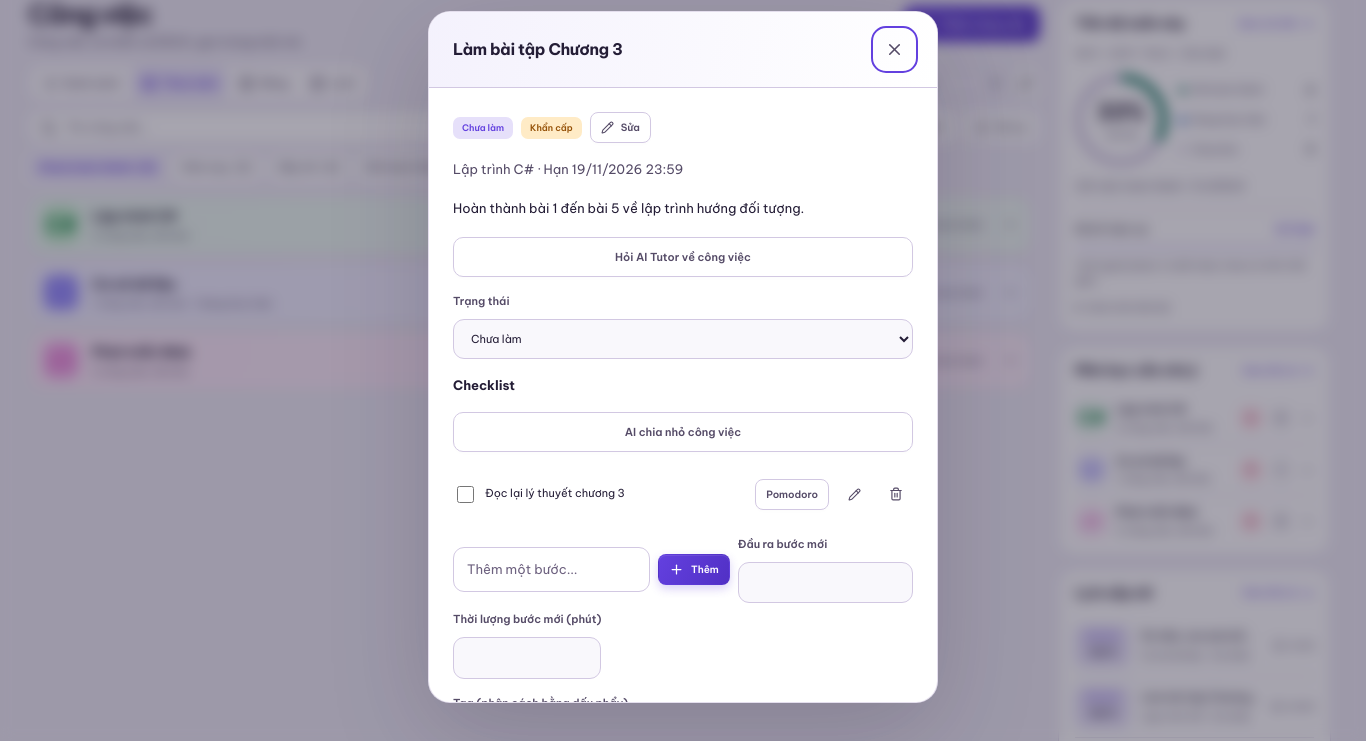
Test: Task details › opens a task from its search URL, edits checklist inline and clears the URL when closed
The width and height of the screenshot is (1366, 741).
Expected: the dialog is shown, [428, 11, 938, 703]
Click the button named "Sửa checklist".
click(854, 494)  # box [837, 477, 871, 511]
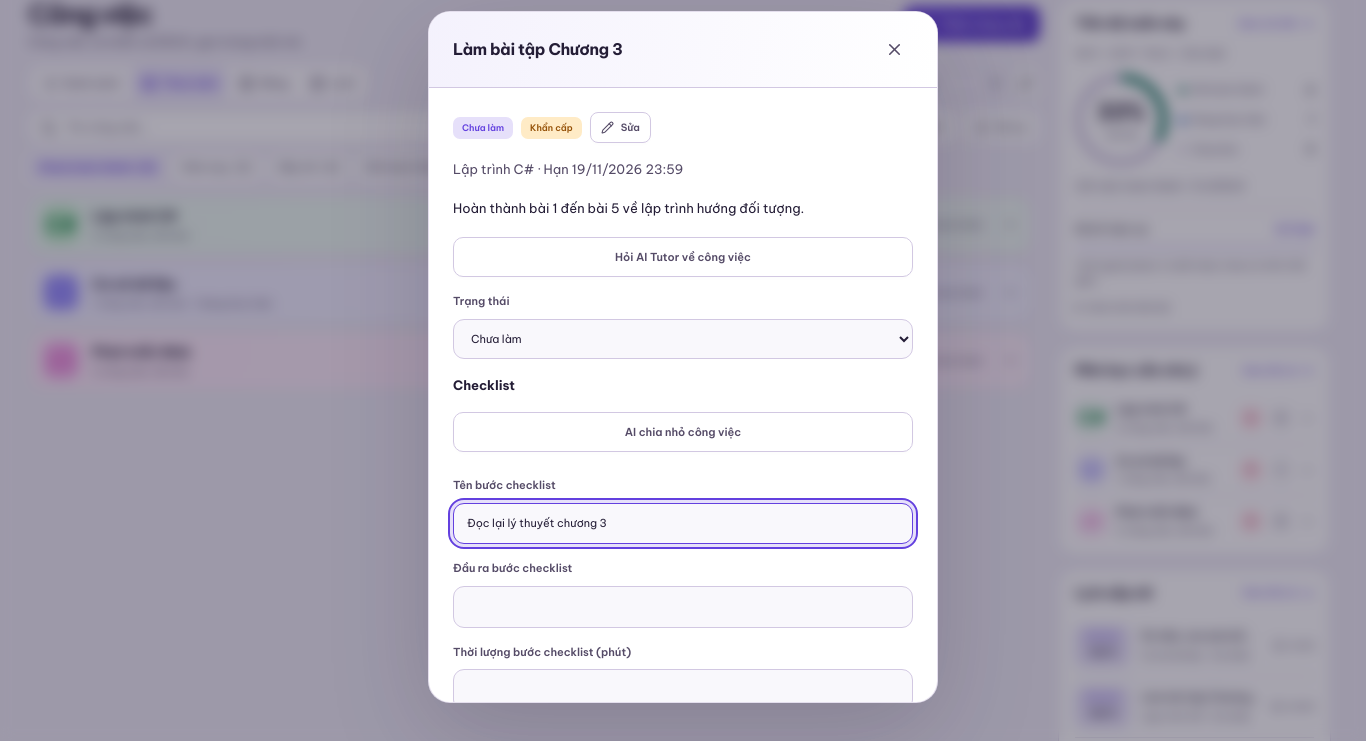
Replace the text in the field labelled "Tên bước checklist" with "Đọc chương tiếp theo" at point(683, 524), box [453, 503, 913, 544]
(page scrolled)
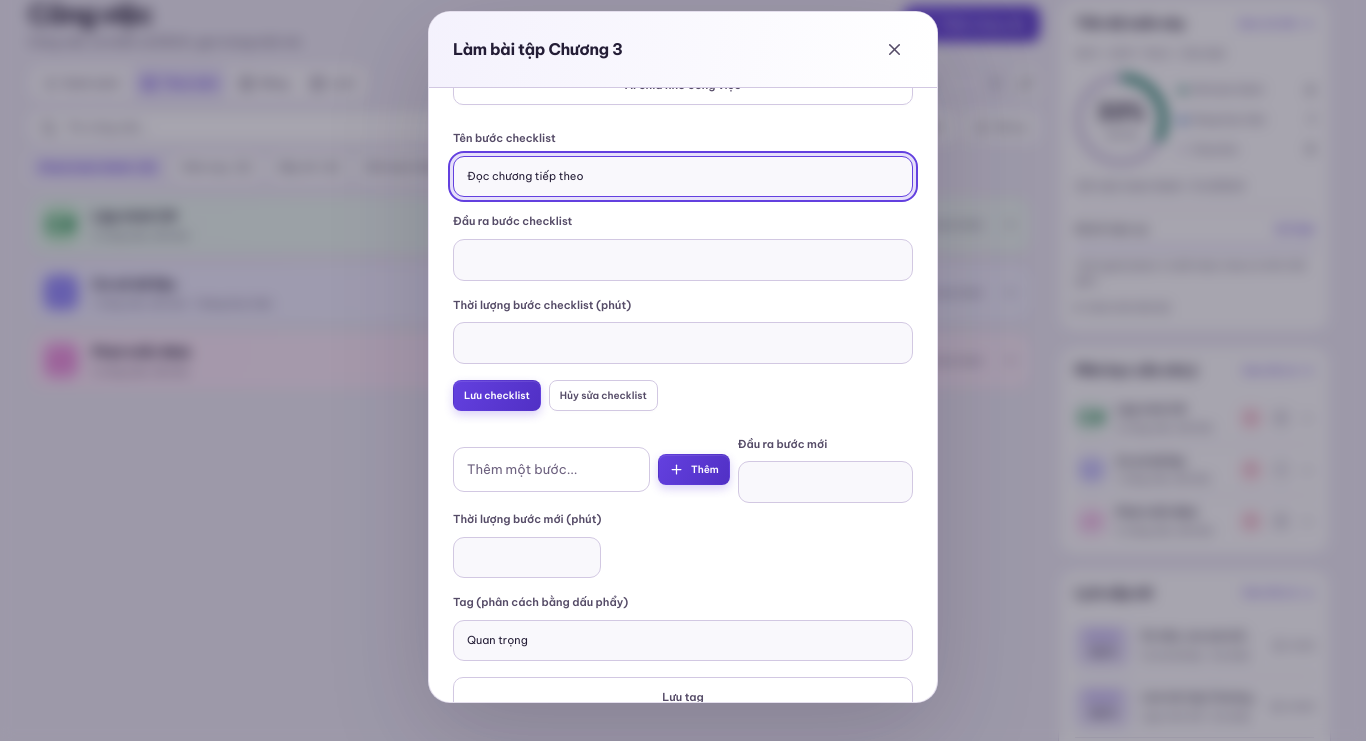
Click the button "Lưu checklist".
click(497, 395)  # box [453, 380, 541, 411]
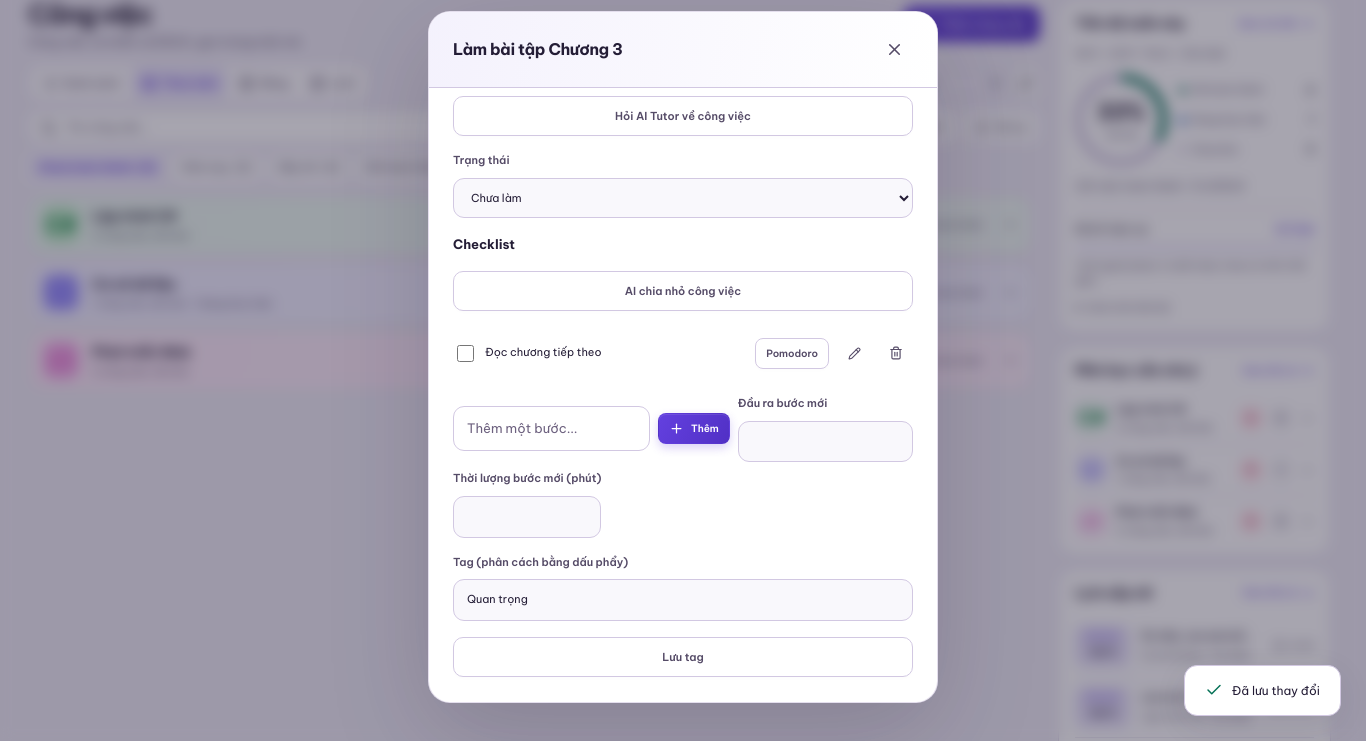
Expected: the text "Đọc chương tiếp theo" is shown, [485, 344, 602, 362]
Click the button named "Đóng hộp thoại".
click(894, 50)  # box [876, 31, 913, 68]
(page scrolled)
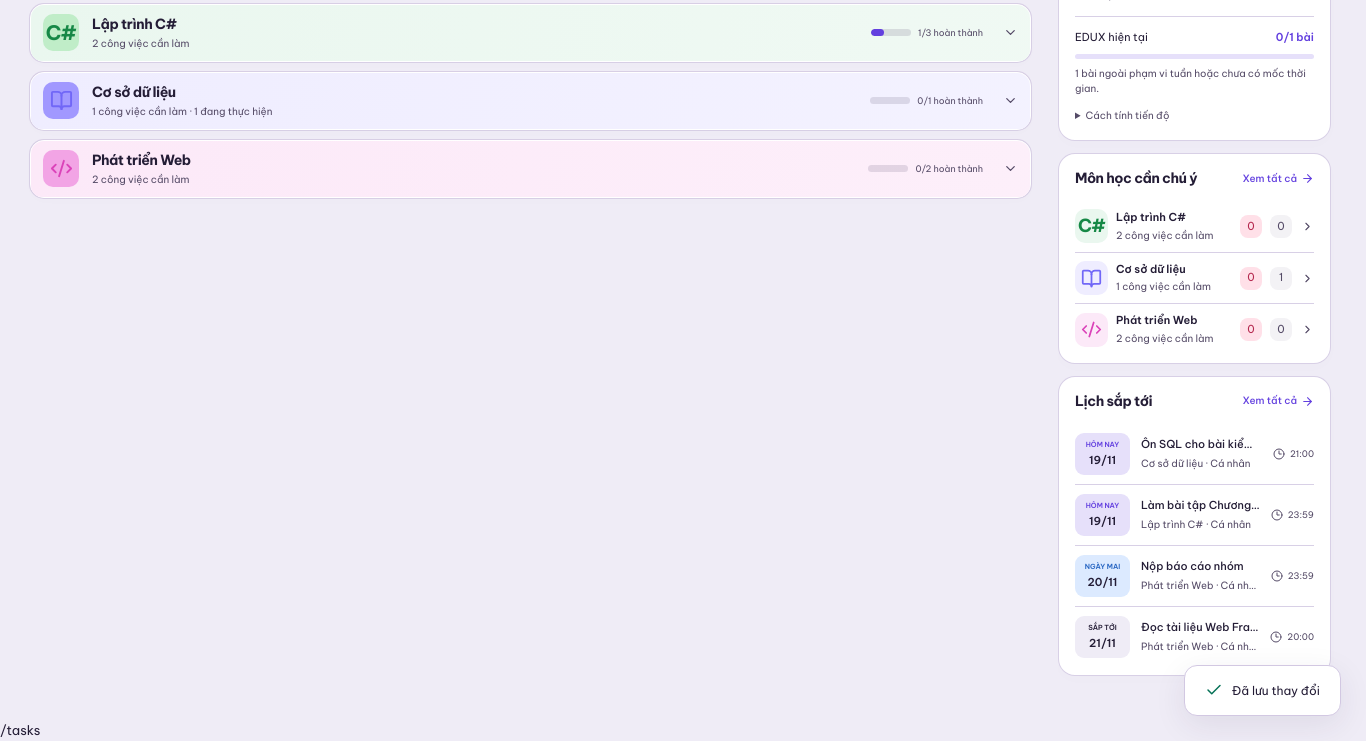
Expected: the dialog is gone
Expected: the text named "Địa chỉ" reads "/tasks", [0, 722, 40, 738]
